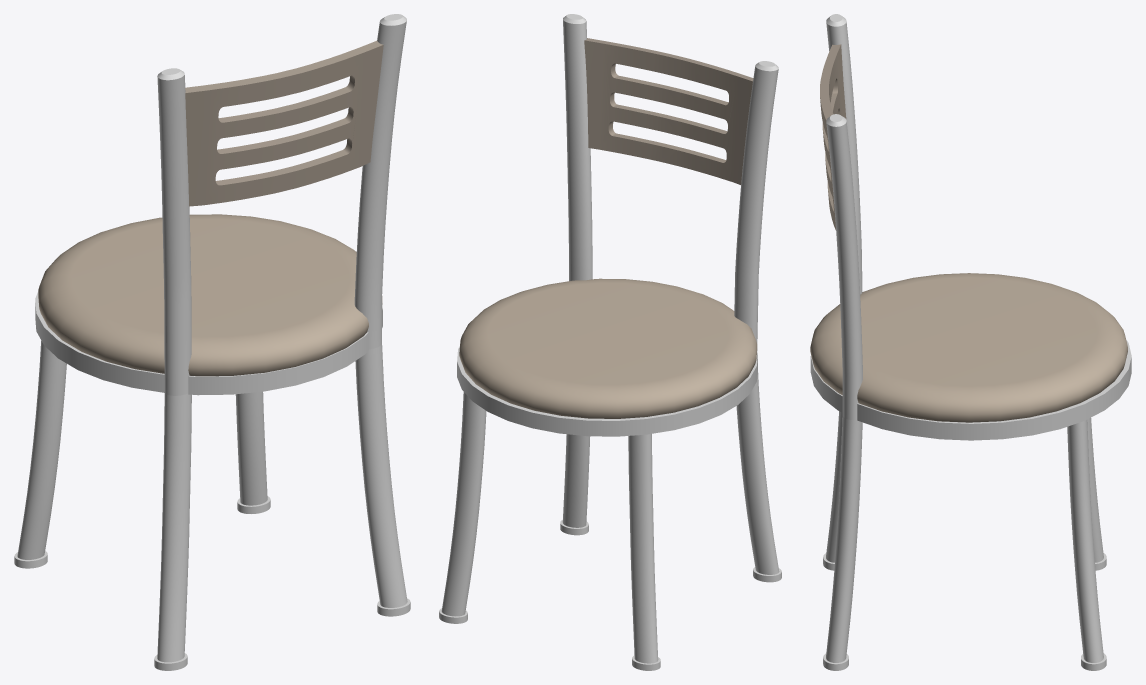
Rendered from Chaise5_3.fbx.
3 views of the same model, side by side, from view 1: azimuth 30°, elevation 25°; view 2: azimuth 150°, elevation 25°; view 3: azimuth 270°, elevation 25° (orthographic). The views are drawn at different scales.
Visible parts, largest first — view 1: pCylinder1683, pCube2686, pCylinder1687, pCylinder1682, pCylinder1686, pCylinder1690, pCylinder1684, pCylinder1688, pCylinder1689; view 2: pCylinder1683, pCube2686, pCylinder1687, pCylinder1682, pCylinder1684, pCylinder1688, pCylinder1689, pCylinder1686, pCylinder1690; view 3: pCylinder1683, pCylinder1682, pCylinder1684, pCylinder1690, pCylinder1689, pCylinder1687, pCube2686, pCylinder1686, pCylinder1688.
Part boxes in pixels (bbox=[...]): pCylinder1683: bbox=[38, 214, 382, 376]; pCube2686: bbox=[185, 40, 383, 206]; pCylinder1687: bbox=[157, 68, 191, 395]; pCylinder1682: bbox=[354, 14, 406, 349]; pCylinder1686: bbox=[154, 393, 191, 670]; pCylinder1690: bbox=[355, 344, 410, 616]; pCylinder1684: bbox=[35, 291, 382, 395]; pCylinder1688: bbox=[14, 340, 66, 568]; pCylinder1689: bbox=[235, 391, 270, 513]; pCylinder1683: bbox=[459, 278, 757, 418]; pCube2686: bbox=[584, 38, 753, 184]; pCylinder1687: bbox=[734, 61, 778, 343]; pCylinder1682: bbox=[563, 14, 592, 281]; pCylinder1684: bbox=[457, 346, 757, 436]; pCylinder1688: bbox=[628, 434, 660, 670]; pCylinder1689: bbox=[439, 392, 486, 623]; pCylinder1686: bbox=[736, 370, 781, 582]; pCylinder1690: bbox=[560, 434, 590, 535]; pCylinder1683: bbox=[810, 273, 1127, 422]; pCylinder1682: bbox=[826, 114, 862, 419]; pCylinder1684: bbox=[810, 340, 1131, 440]; pCylinder1690: bbox=[823, 416, 862, 670]; pCylinder1689: bbox=[1067, 420, 1106, 670]; pCylinder1687: bbox=[826, 14, 862, 294]; pCube2686: bbox=[820, 44, 846, 229]; pCylinder1686: bbox=[823, 411, 842, 570]; pCylinder1688: bbox=[1087, 417, 1106, 570].
Size of the model in its own units: 44.7 by 83.92 by 44.78.
